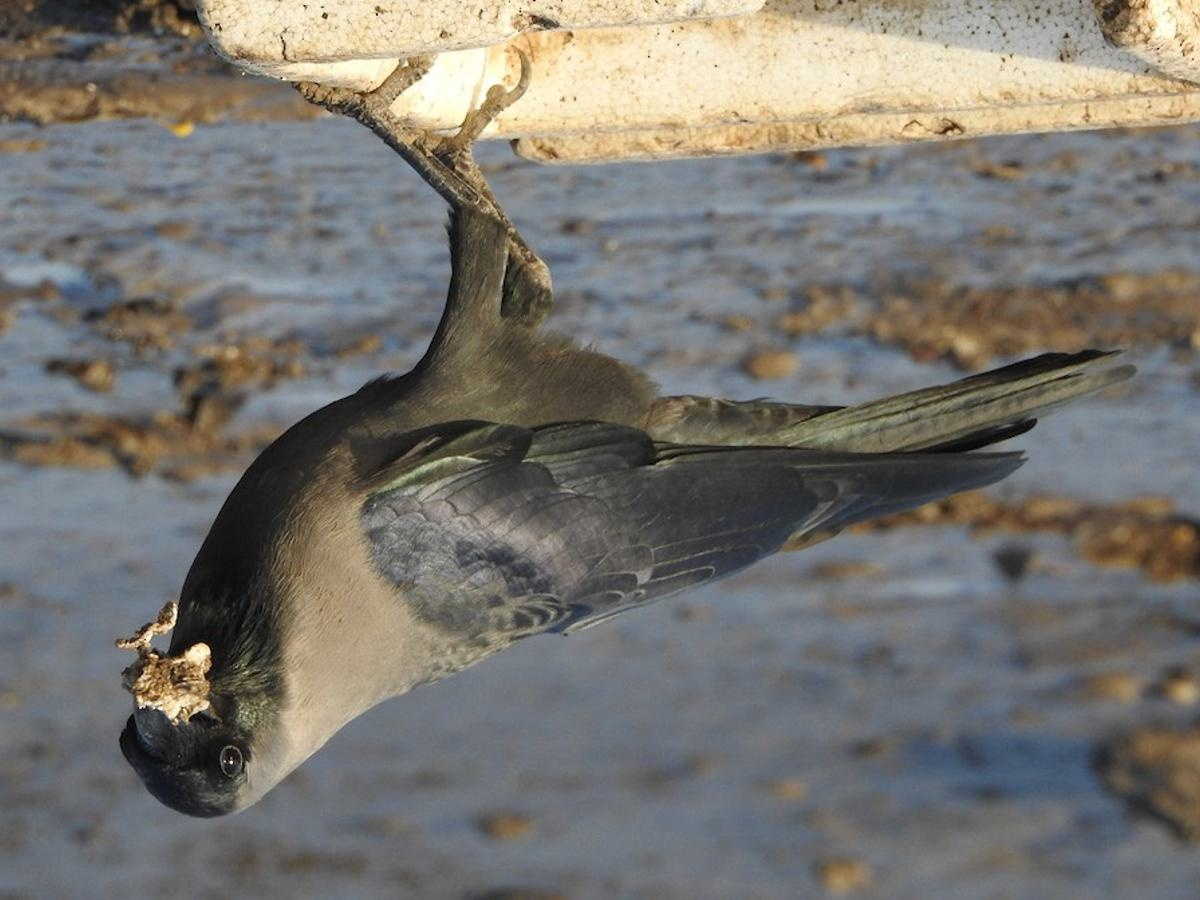crow: (100, 109, 1140, 829)
